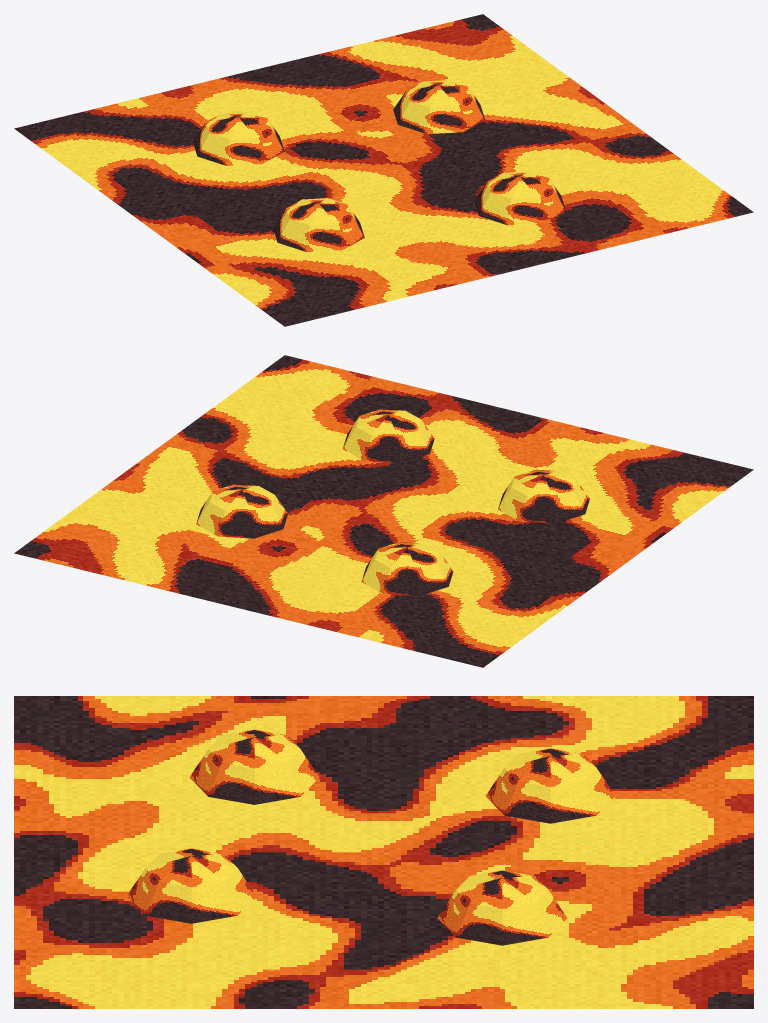
The model's file is poca_de_lava.glb.
3 views of the same model, one above another, from view 1: azimuth 30°, elevation 25°; view 2: azimuth 150°, elevation 25°; view 3: azimuth 270°, elevation 25° (orthographic). The views are drawn at different scales.
Visible parts, largest first — view 1: Liquid_Lava, LavaBubble_0, LavaBubble_2, LavaBubble_1, LavaBubble_3; view 2: Liquid_Lava, LavaBubble_2, LavaBubble_1, LavaBubble_3, LavaBubble_0; view 3: Liquid_Lava, LavaBubble_1, LavaBubble_2, LavaBubble_3, LavaBubble_0.
Part boxes in pixels (box(x1,y1,x2,y2)): Liquid_Lava: box(14, 14, 753, 326); LavaBubble_0: box(273, 198, 364, 251); LavaBubble_2: box(474, 171, 565, 225); LavaBubble_1: box(393, 80, 484, 133); LavaBubble_3: box(192, 112, 284, 165); Liquid_Lava: box(14, 355, 753, 667); LavaBubble_2: box(343, 409, 434, 463); LavaBubble_1: box(196, 484, 287, 538); LavaBubble_3: box(361, 542, 453, 595); LavaBubble_0: box(498, 469, 589, 523); Liquid_Lava: box(14, 696, 753, 1008); LavaBubble_1: box(437, 870, 567, 945); LavaBubble_2: box(126, 848, 256, 923); LavaBubble_3: box(485, 748, 615, 823); LavaBubble_0: box(189, 729, 319, 804).
Size of the model in its own units: 2 by 0.24 by 2.
Materials: 1 (1 with a texture image).
